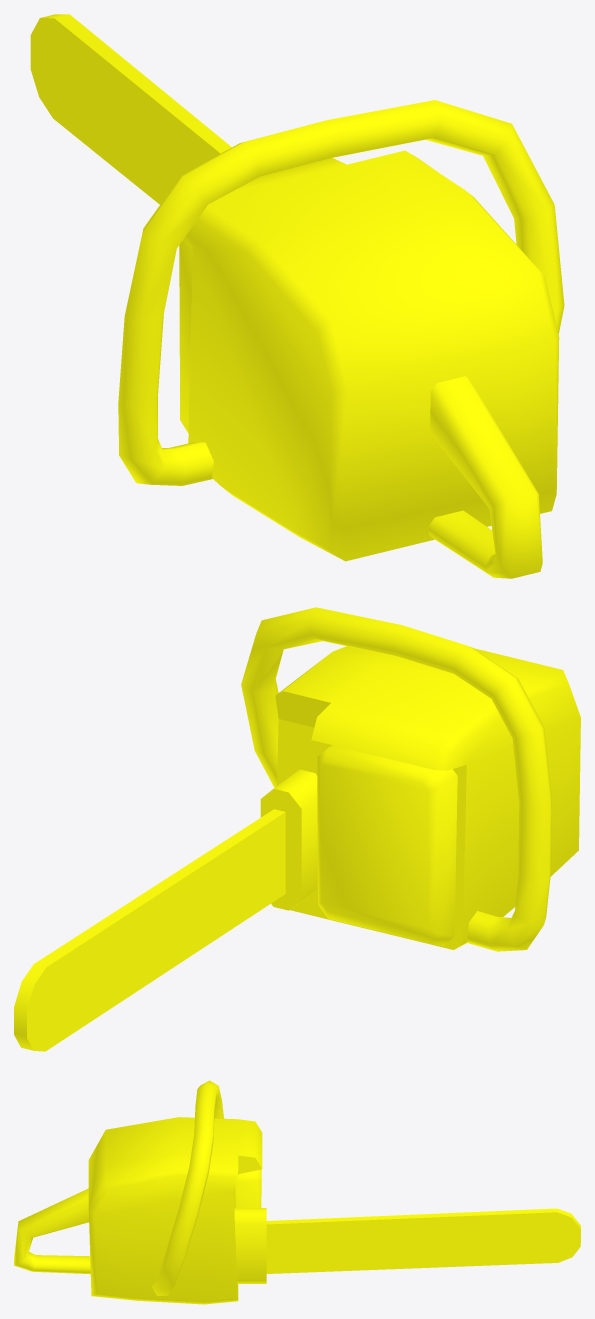
Rendered from melee_chainsaw.glb.
3 renders of one model, top to bottom at view 1: azimuth 30°, elevation 25°; view 2: azimuth 150°, elevation 25°; view 3: azimuth 270°, elevation 25°, orthographic. The views are drawn at different scales.
Parts seen in each view (by area): view 1: Chainsaw; view 2: Chainsaw; view 3: Chainsaw.
Boxes of the visible parts, bbox=[...] form: Chainsaw: bbox=[30, 14, 564, 578]; Chainsaw: bbox=[14, 607, 580, 1051]; Chainsaw: bbox=[14, 1080, 580, 1304].
Bounding box in the file's own units: 0.2635 × 0.2206 × 0.644.
Materials: 1 (1 with a texture image).
